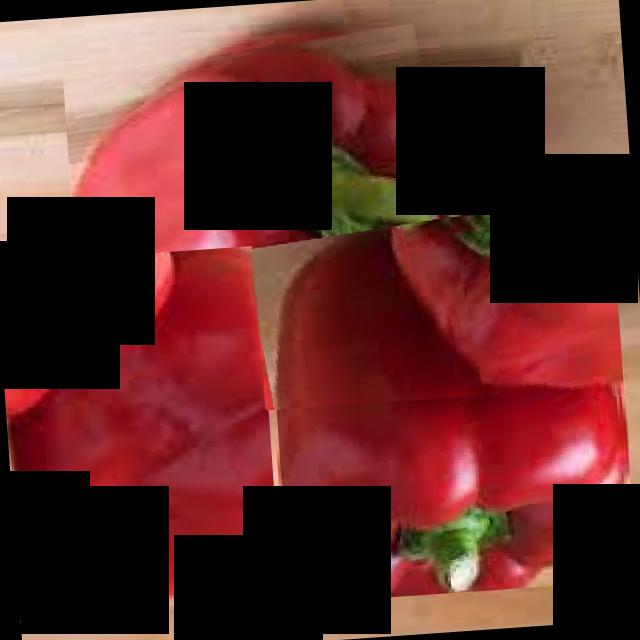pepper: (61, 20, 483, 422), (264, 206, 636, 604), (0, 245, 281, 615)
